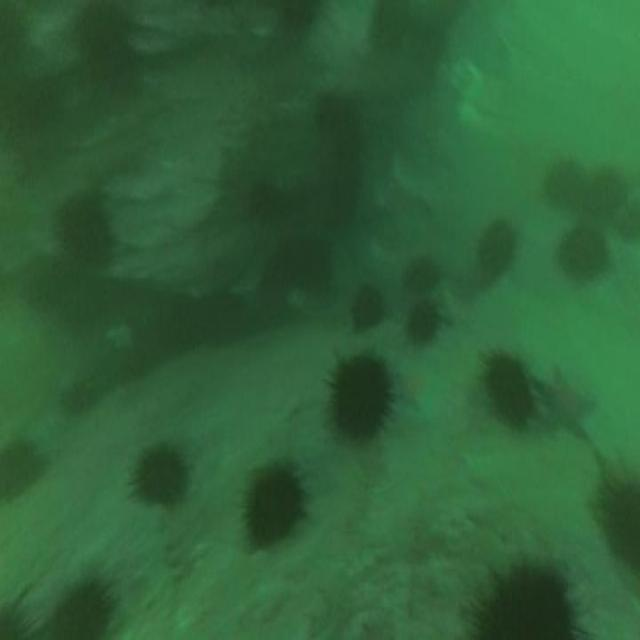echinus: (479, 561, 570, 640), (330, 360, 389, 436), (247, 473, 300, 545), (481, 354, 531, 428), (61, 195, 107, 262), (132, 448, 184, 506), (57, 583, 109, 640), (557, 223, 608, 276), (1, 436, 42, 493), (476, 218, 516, 275), (540, 155, 586, 204), (589, 164, 624, 217), (352, 289, 385, 330), (406, 258, 440, 297), (316, 95, 346, 136), (410, 300, 434, 340)
starfish: (536, 365, 596, 435)
